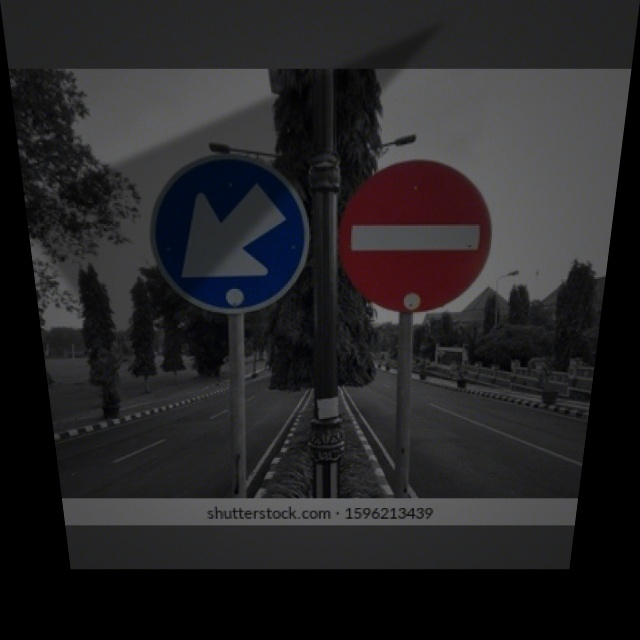Compulsory_Keep_Left: (148, 158, 304, 306)
